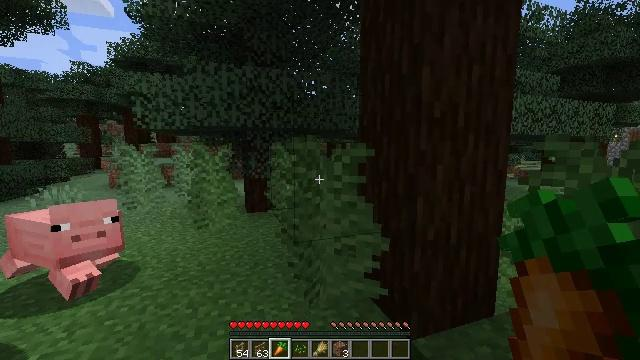pig: (0, 199, 121, 301)
